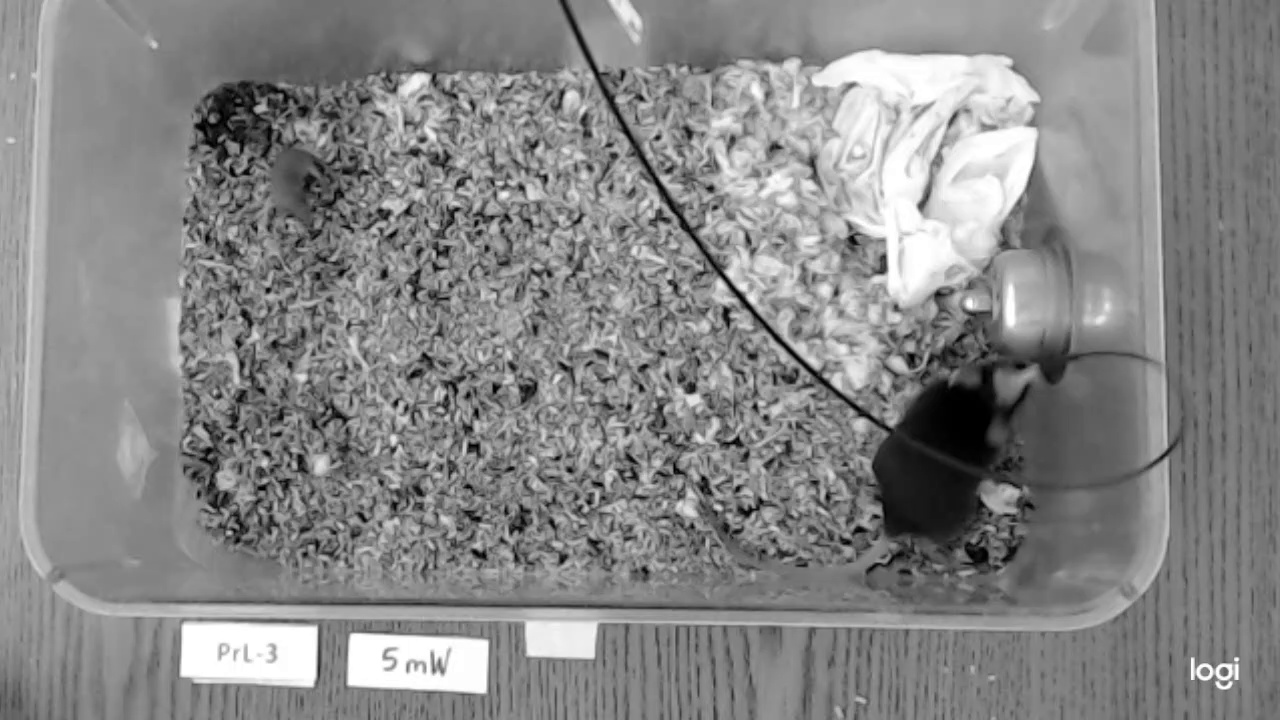child-mice: (268, 146, 320, 221)
